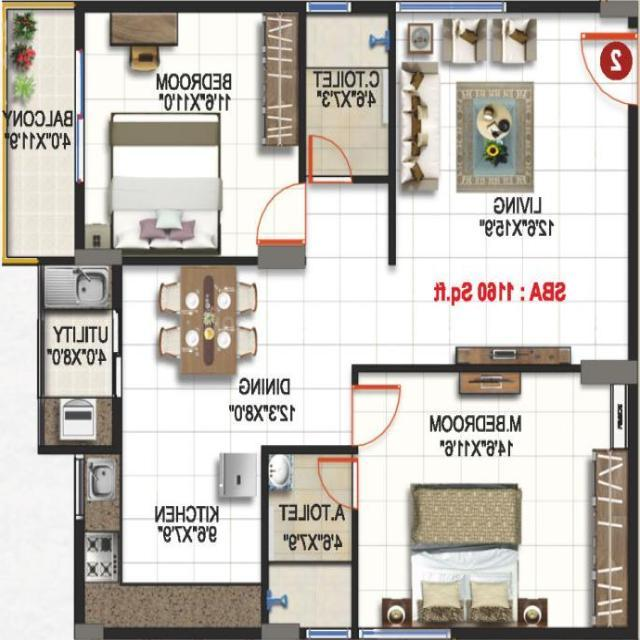Balcony-Sitout: (0, 3, 84, 266)
Bedroom: (75, 3, 300, 256)
Bedroom with Toilet: (259, 364, 635, 638)
Dining: (156, 266, 259, 387)
Enterance-Foyer: (567, 23, 640, 112)
Kitchen: (76, 446, 266, 639)
Living: (389, 0, 640, 377)
Toilet: (259, 445, 358, 638), (301, 5, 394, 183)
Utility: (37, 260, 124, 453)
